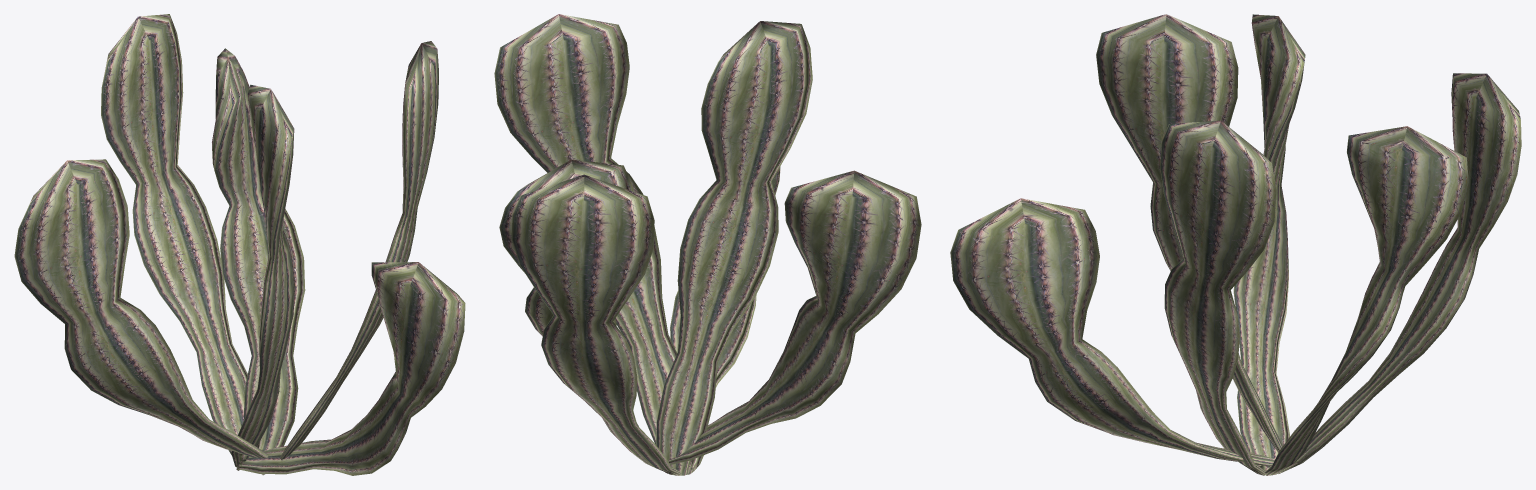
The model's file is tree_cactus_b_04.fbx.
3 views of the same model, side by side, from view 1: azimuth 30°, elevation 25°; view 2: azimuth 150°, elevation 25°; view 3: azimuth 270°, elevation 25° (orthographic). The views are drawn at different scales.
Visible parts, largest first — view 1: Tree_0; view 2: Tree_0; view 3: Tree_0.
Boxes of the visible parts, left/top/right/bottom form: Tree_0: left=14, top=14, right=465, bottom=475; Tree_0: left=494, top=14, right=921, bottom=475; Tree_0: left=950, top=14, right=1521, bottom=475.
Size of the model in its own units: 0.9296 by 1.05 by 0.8951.
1 material, 1 textured.
